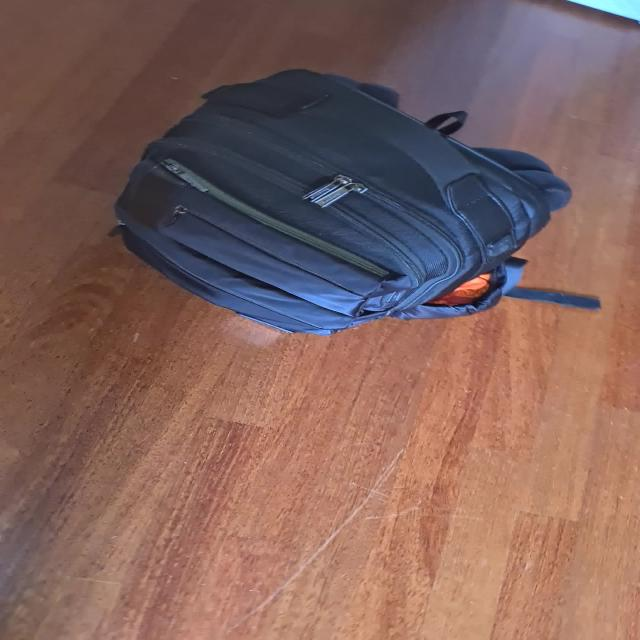backpack: (96, 58, 582, 337)
